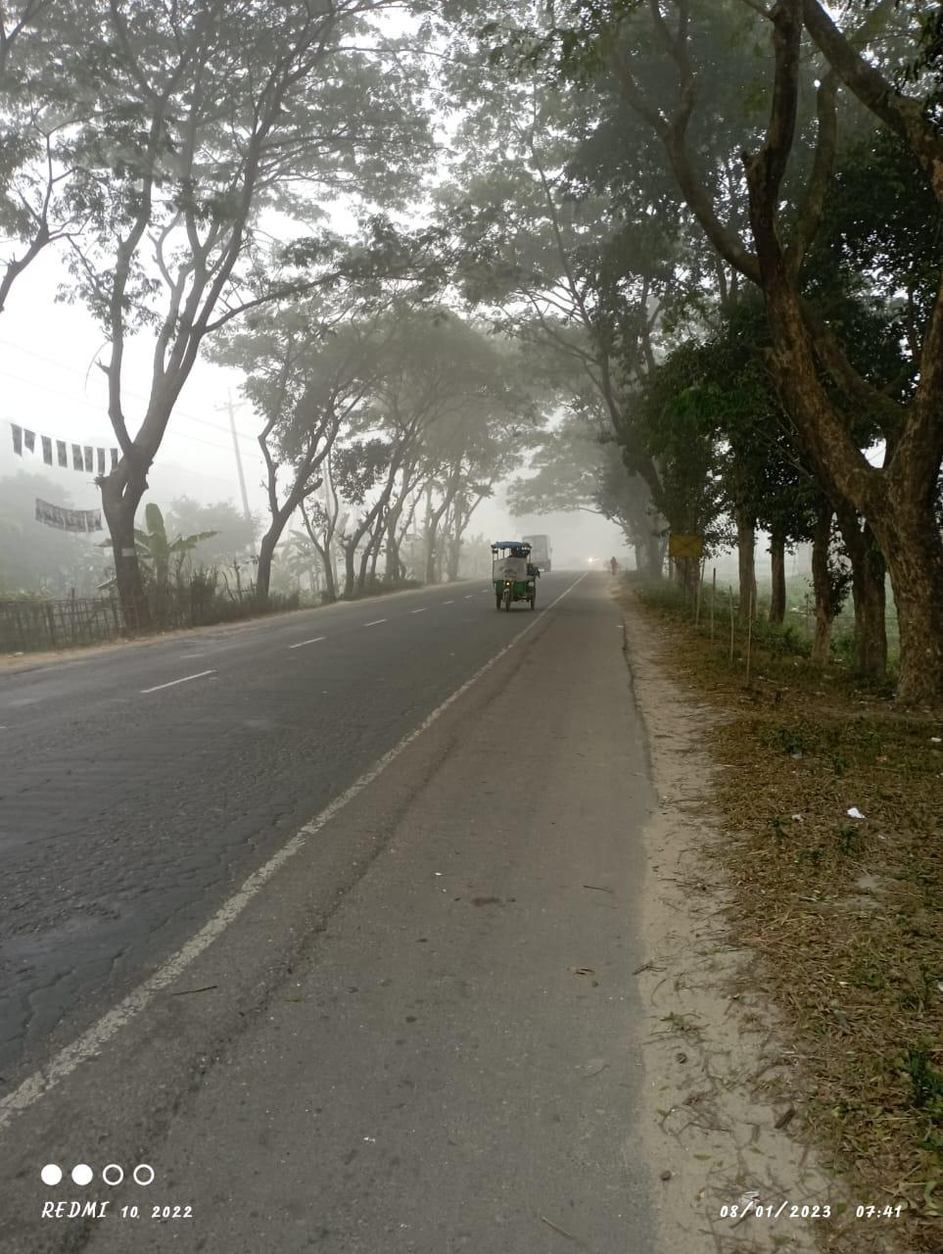Car: (476, 525, 545, 620)
Truck: (518, 520, 554, 577)
